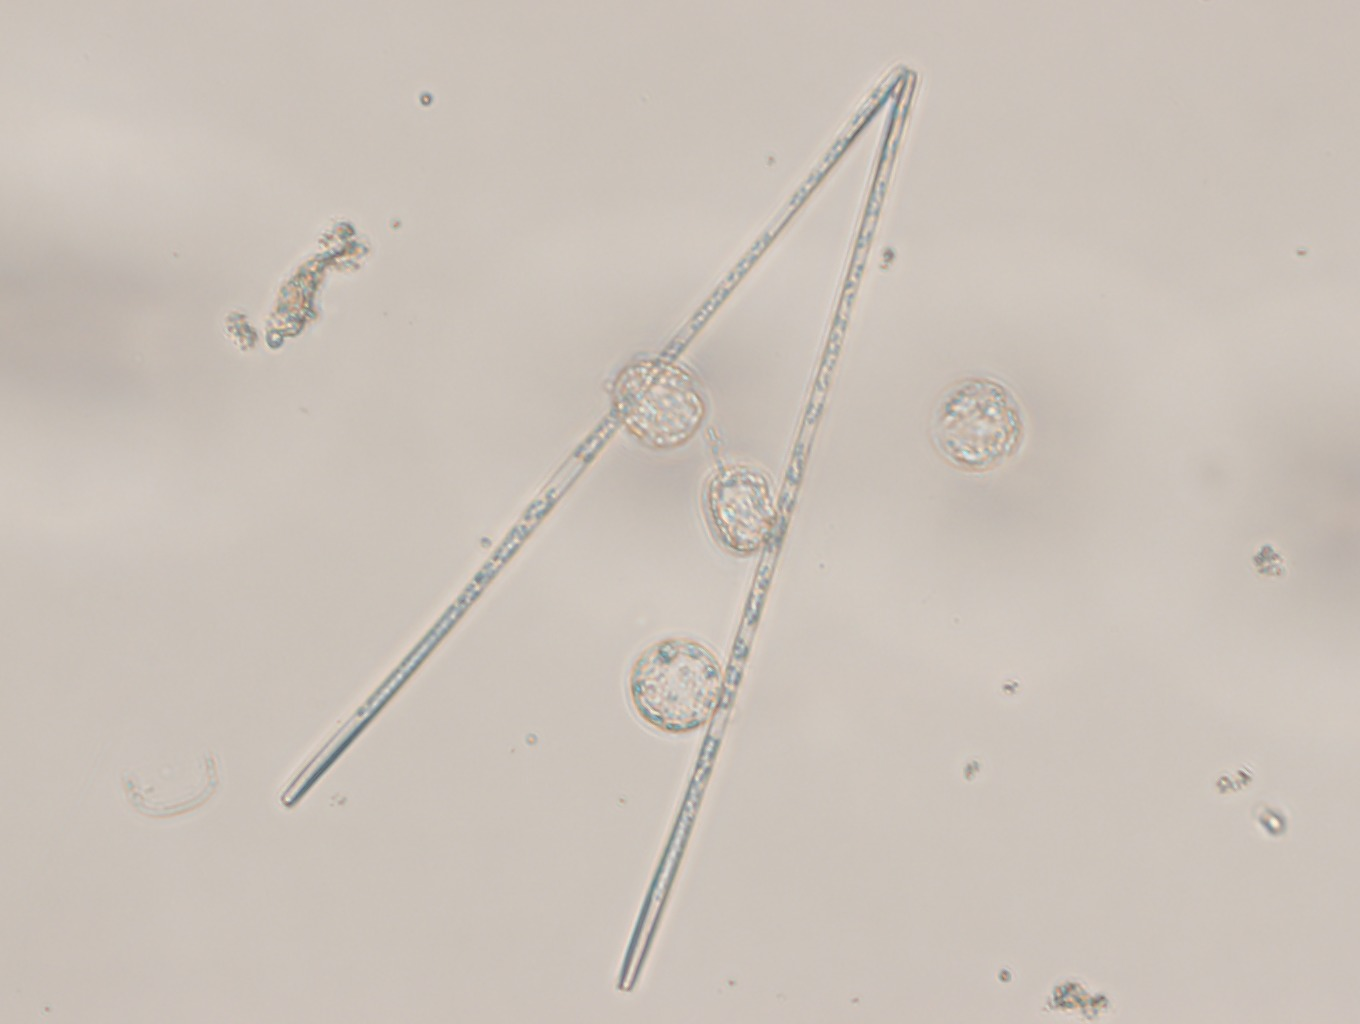thalassionema frauenfeldii: (282, 59, 920, 992)
